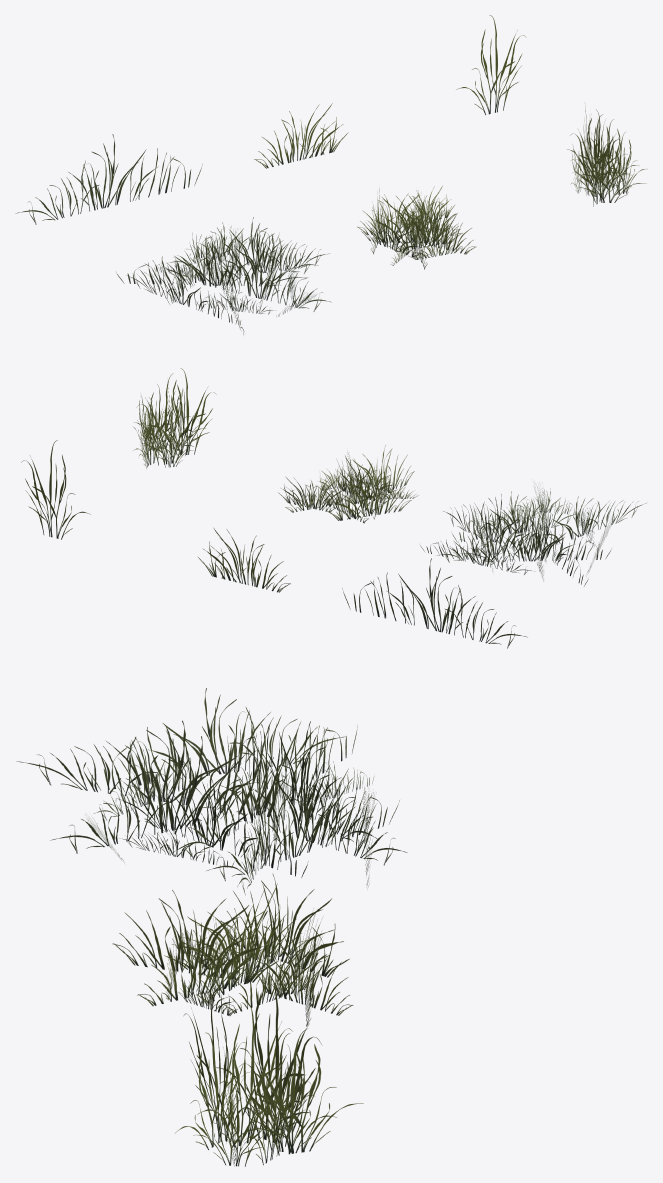
File: sketchfab.glb
The picture shows the model from 3 angles, top to bottom: view 1: azimuth 30°, elevation 25°; view 2: azimuth 150°, elevation 25°; view 3: azimuth 270°, elevation 25°; orthographic projection. The views are drawn at different scales.
Visible parts, largest first — view 1: grass1, grass2, grass3, 2dgrass1, 2dgrass2, 2dgrass3; view 2: grass1, grass2, grass3, 2dgrass1, 2dgrass2, 2dgrass3; view 3: grass1, grass2, grass3.
Part boxes in pixels (x1,y1,x2,y2): grass1: (116,217,331,334); grass2: (357,185,475,269); grass3: (567,109,645,206); 2dgrass1: (15,134,202,224); 2dgrass2: (254,103,348,168); 2dgrass3: (456,15,526,114); grass1: (420,481,646,586); grass2: (278,445,418,523); grass3: (133,368,216,468); 2dgrass1: (342,558,527,648); 2dgrass2: (198,528,290,592); 2dgrass3: (21,440,90,539); grass1: (16,688,407,894); grass2: (112,873,353,1026); grass3: (174,972,363,1166).
Size of the model in its own units: 5.42 by 1 by 3.19.
Materials: 6 (6 with a texture image).
